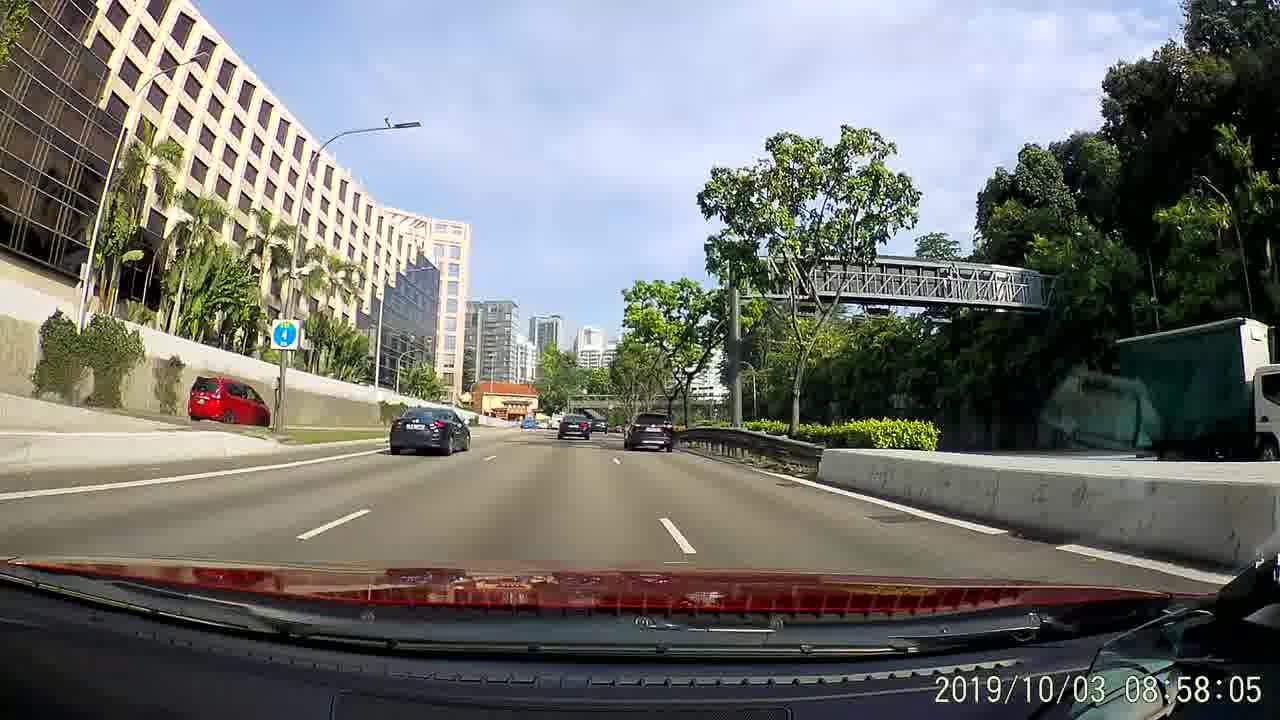car: (390, 403, 471, 457), (189, 374, 271, 427), (620, 412, 673, 452), (556, 411, 592, 443)
